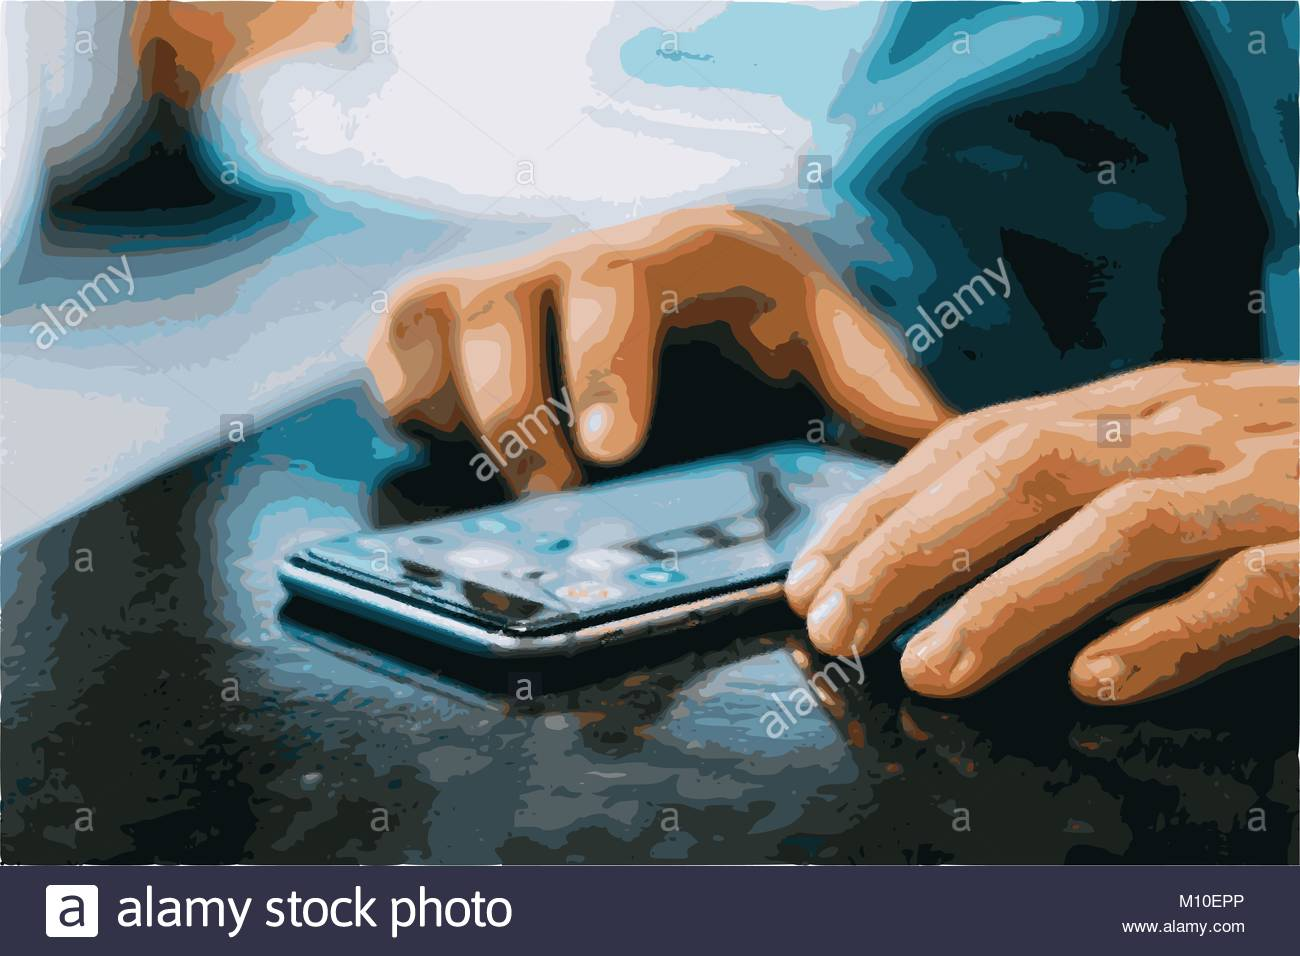Cell Phone: (292, 440, 920, 652)
